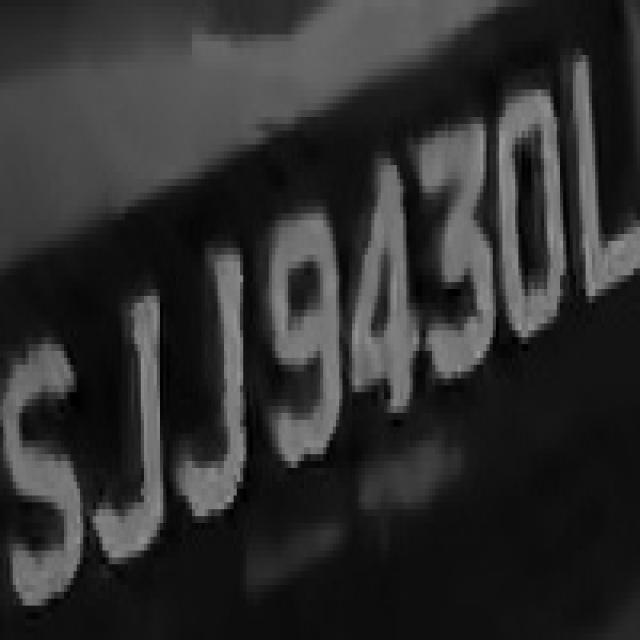0: (486, 76, 566, 364)
3: (403, 110, 493, 392)
4: (333, 131, 422, 440)
9: (256, 200, 352, 468)
J: (170, 241, 252, 557), (84, 282, 166, 592)
L: (553, 27, 640, 302)
S: (6, 310, 90, 633)
